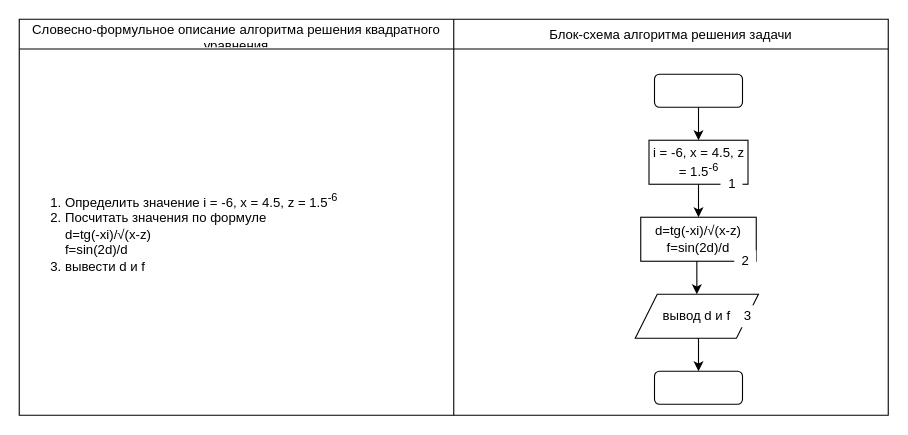
This 908x435 diagram has some shape labels left out. Here are the shapes that lost their labels. From the top down, the centre of each, then its label:
At pixel 698 90: "начало".
At pixel 698 387: "конец".
